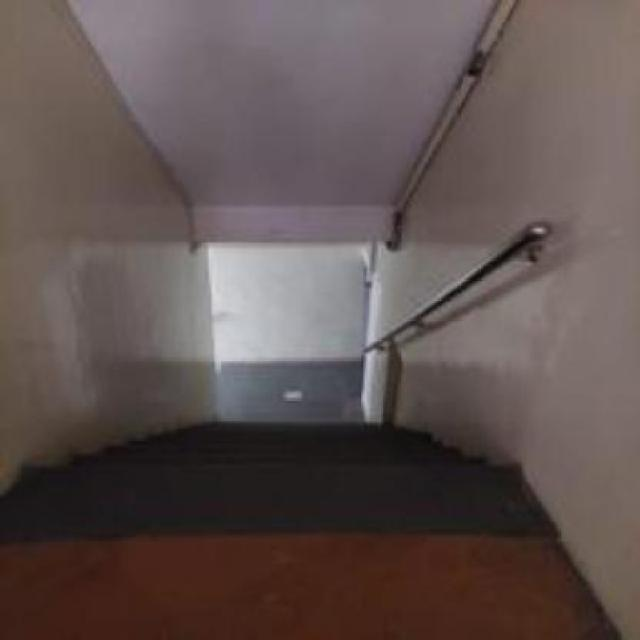stair: (20, 397, 520, 526)
